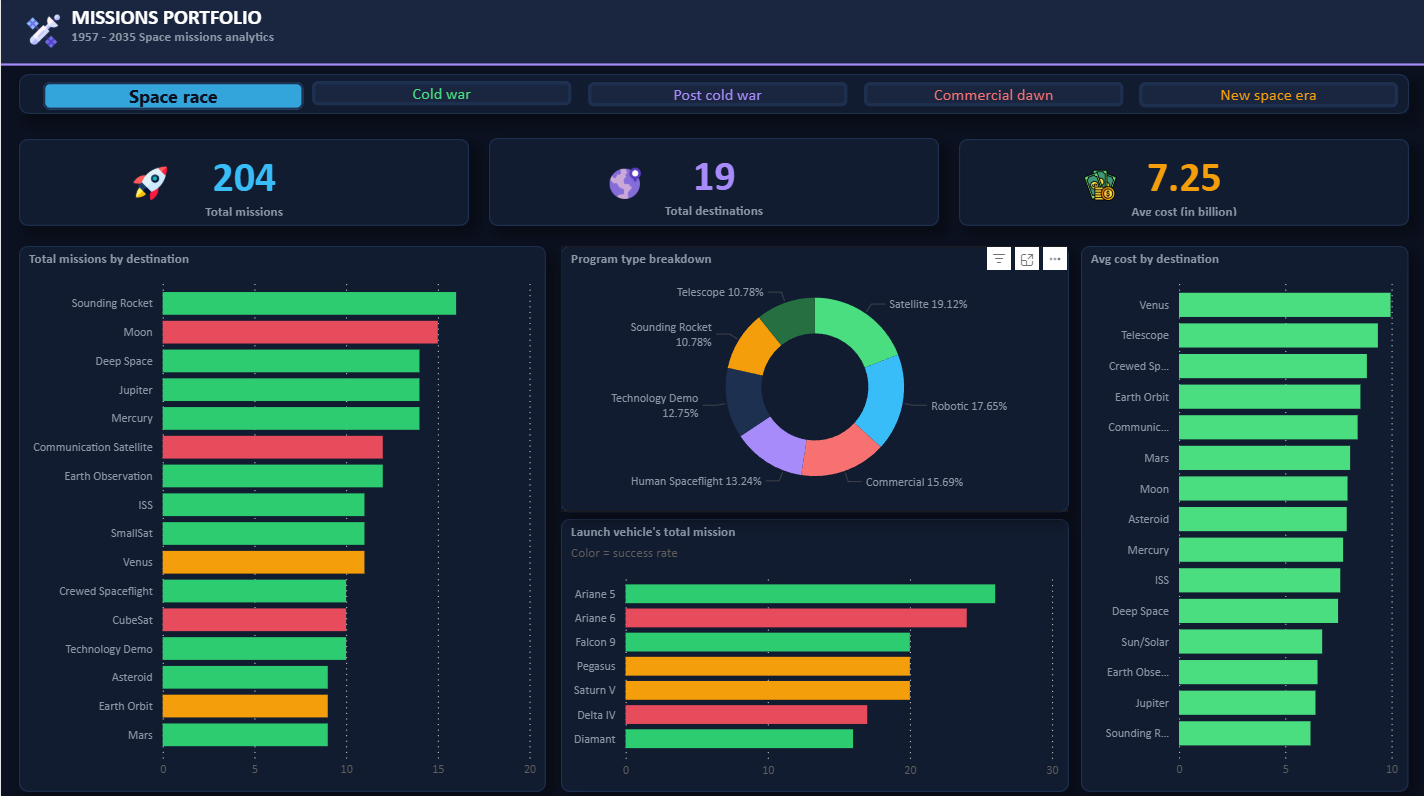

What the dashboard file says about the page in this screenshot:
{"tool":"powerbi","page":{"name":"Mission details","canvas":[1280,720],"ordinal":1},"visuals":[{"type":"shape","box":[0,0,1280,59.3],"z":2000},{"type":"shape","box":[16,68,1248,36],"z":3000},{"type":"card","fields":{"Values":["_measures.Avg cost"]},"box":[859.7,126.5,404.3,78.1],"z":4000},{"type":"card","fields":{"Values":["_measures.Total Missions"]},"box":[16,126.5,404.3,78.1],"z":5000},{"type":"card","fields":{"Values":["_measures.Total destinations"]},"box":[437.9,126,404.3,78.9],"z":6000},{"type":"clusteredBarChart","title":"Total missions by destination","fields":{"Category":["public vw_dashboard_facts.destination"],"Y":["CountNonNull(public vw_dashboard_facts.mission_id)"]},"box":[16.3,222.7,473.3,489.6],"z":7000},{"type":"clusteredBarChart","title":"Launch vehicle''s total mission ","fields":{"Category":["public vw_dashboard_facts.launch_vehicle"],"Y":["CountNonNull(public vw_dashboard_facts.mission_id)"]},"box":[502.4,467.5,455.8,244.8],"z":8000},{"type":"donutChart","title":"Program type breakdown","fields":{"Category":["public vw_dashboard_facts.program_type"],"Y":["CountNonNull(public vw_dashboard_facts.mission_id)"]},"box":[502.4,222.7,455.8,239],"z":9000},{"type":"clusteredBarChart","title":"Avg cost by destination","fields":{"Category":["public vw_dashboard_facts.destination"],"Y":["Avg(public vw_dashboard_facts.cost_usd_billion)"]},"box":[969.9,222.7,293.8,489.6],"z":10000},{"type":"shape","box":[279.5,74.9,233,22],"z":12000},{"type":"shape","box":[526.9,75,233,22],"z":13000},{"type":"shape","box":[774.4,75.1,233,22],"z":14000},{"type":"image","box":[18,10,40,40],"z":16000},{"type":"textbox","box":[58,0,560,51],"z":17000},{"type":"shape","box":[0,53.6,1280,11.7],"z":18000},{"type":"image","box":[967,148,40,40],"z":19000},{"type":"image","box":[114,146,40,40],"z":20000},{"type":"shape","box":[37.6,75.3,233.9,25],"z":21000},{"type":"shape","box":[1021.8,75.2,232.6,22.9],"z":25000},{"type":"image","box":[540.5,146,40,40],"z":26000}]}

Visuals, with their boxes in screenshot pixels (x1, y1, x2, y2), scaled from the page's 1280x720 canvas onto the 1424x796 screenshot:
shape: region(0, 0, 1423, 66)
shape: region(18, 75, 1406, 115)
card - _measures.Avg cost: region(956, 140, 1406, 226)
card - _measures.Total Missions: region(18, 140, 468, 226)
card - _measures.Total destinations: region(487, 139, 937, 227)
"Total missions by destination" clusteredBarChart: region(18, 246, 545, 787)
"Launch vehicle''s total mission " clusteredBarChart: region(559, 517, 1066, 787)
"Program type breakdown" donutChart: region(559, 246, 1066, 510)
"Avg cost by destination" clusteredBarChart: region(1079, 246, 1406, 787)
shape: region(311, 83, 570, 107)
shape: region(586, 83, 845, 107)
shape: region(862, 83, 1121, 107)
image: region(20, 11, 65, 55)
textbox: region(65, 0, 688, 56)
shape: region(0, 59, 1423, 72)
image: region(1076, 164, 1120, 208)
image: region(127, 161, 171, 206)
shape: region(42, 83, 302, 111)
shape: region(1137, 83, 1396, 108)
image: region(601, 161, 646, 206)
